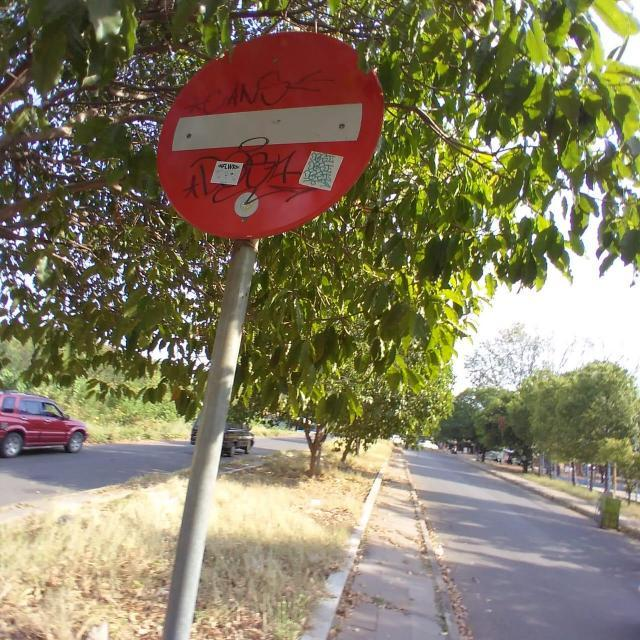traffic sign: (161, 35, 380, 233)
